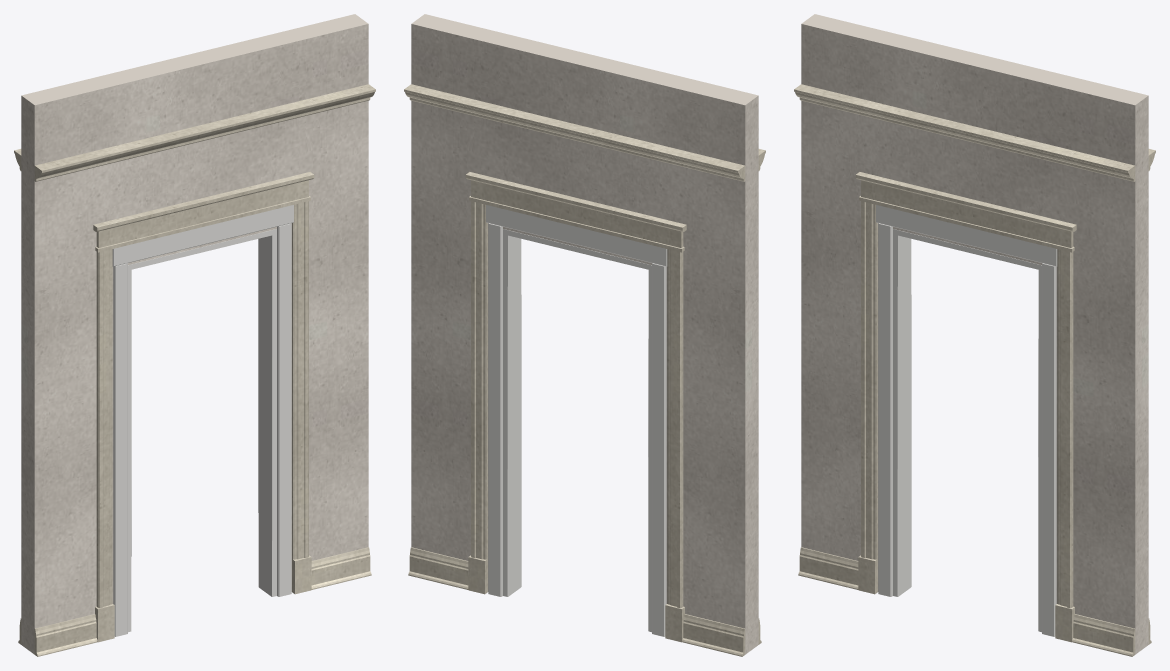
Rendered from iw_doorway.glb.
The picture shows the model from 3 angles, left to right: view 1: azimuth 30°, elevation 25°; view 2: azimuth 150°, elevation 25°; view 3: azimuth 330°, elevation 25°; orthographic projection.
Visible parts, largest first — view 1: iw_doorway_plaster, molduras, iw_doorway_frame; view 2: iw_doorway_plaster, molduras, iw_doorway_frame; view 3: iw_doorway_plaster, molduras, iw_doorway_frame.
Boxes of the visible parts, x1,y1,x2,y2 form: iw_doorway_plaster: (21, 14, 368, 654); molduras: (14, 84, 375, 656); iw_doorway_frame: (112, 205, 293, 636); iw_doorway_plaster: (411, 14, 758, 654); molduras: (404, 84, 765, 656); iw_doorway_frame: (486, 205, 667, 636); iw_doorway_plaster: (801, 14, 1148, 654); molduras: (794, 84, 1155, 656); iw_doorway_frame: (876, 205, 1057, 636).
Size of the model in its own units: 2 by 3.14 by 0.29.
3 materials, 2 textured.
